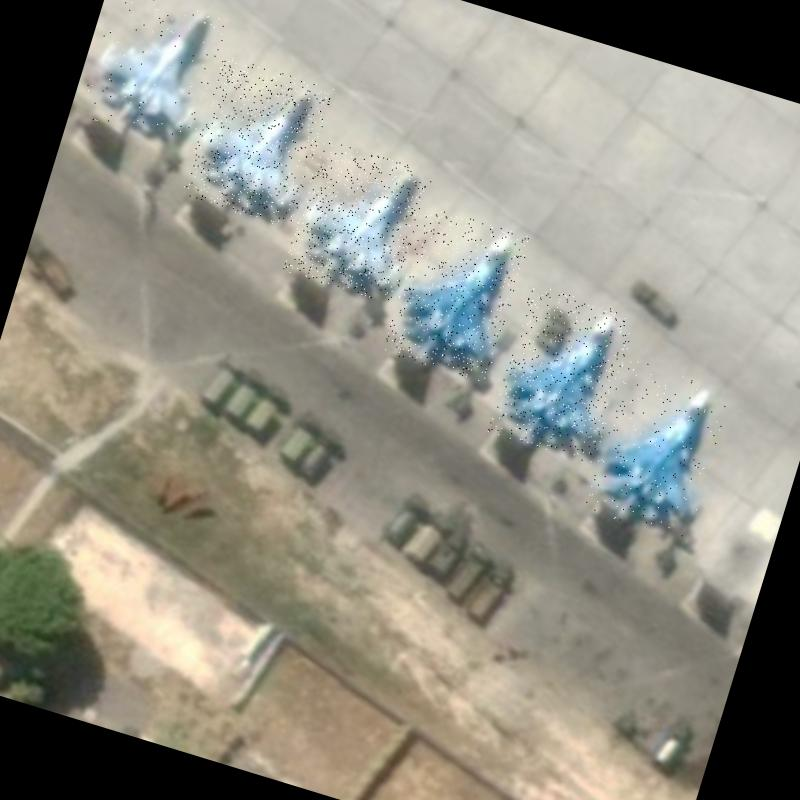A1: (181, 56, 334, 230), (282, 139, 434, 305), (78, 0, 231, 149)
A19: (582, 358, 734, 542), (488, 284, 638, 465), (382, 205, 532, 384)
